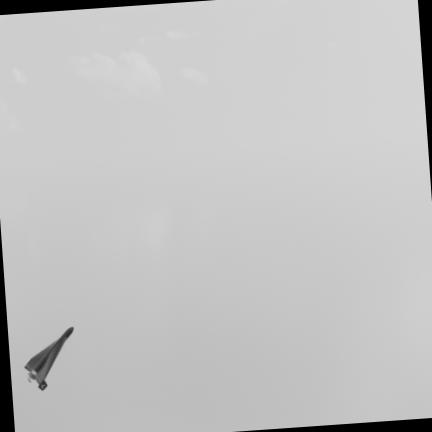Shahed: (25, 327, 73, 389)
